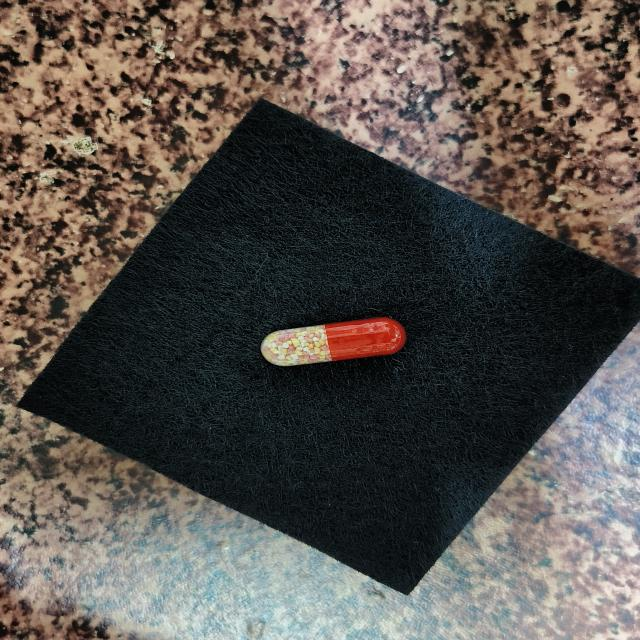Intact Capsule: (261, 317, 406, 366)
